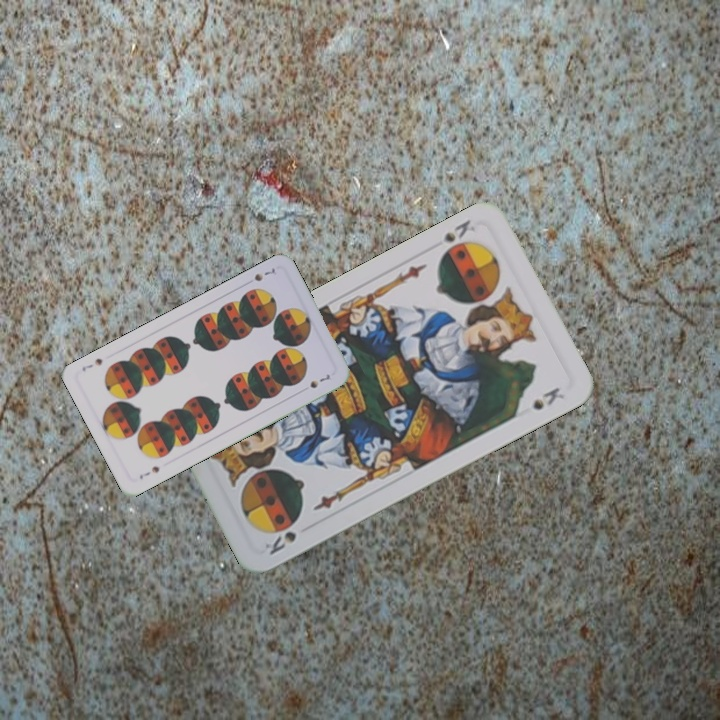S7: (250, 263, 279, 284), (135, 462, 162, 482)
SK: (260, 527, 299, 558), (439, 215, 478, 245)
